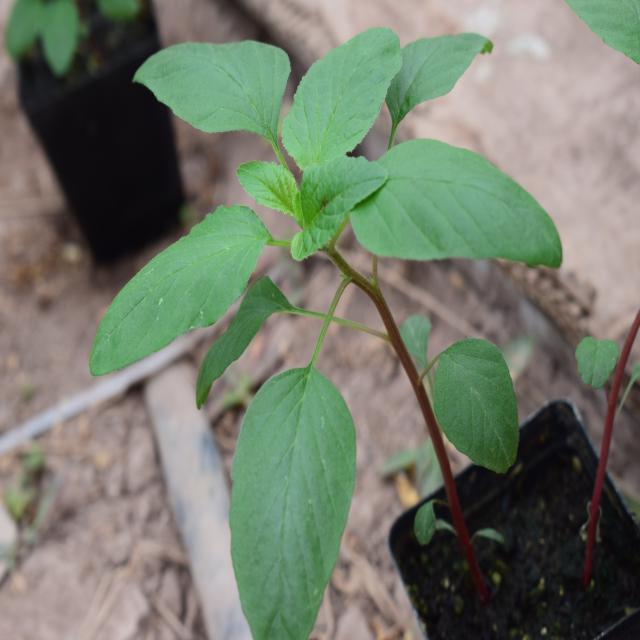pigweed: (142, 28, 528, 623)
